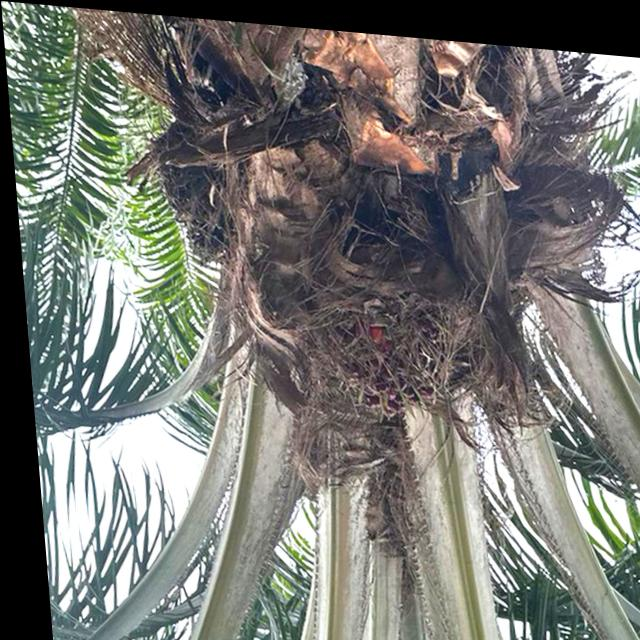ripe: (283, 227, 487, 435)
